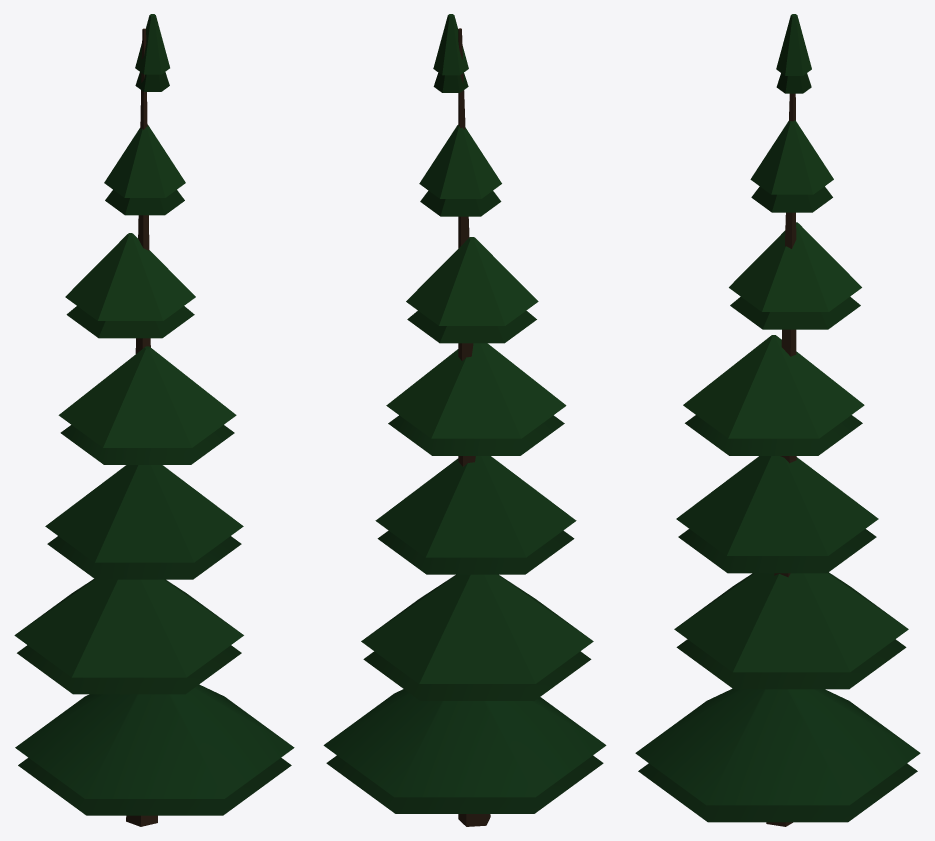
File: tree_spruce_1_far.glb
The picture shows the model from 3 angles, left to right: view 1: azimuth 30°, elevation 25°; view 2: azimuth 150°, elevation 25°; view 3: azimuth 270°, elevation 25°; orthographic projection. The views are drawn at different scales.
Parts seen in each view (by area): view 1: leaf, wood; view 2: leaf, wood; view 3: leaf, wood.
Boxes of the visible parts, x1=… form: leaf: x1=14, y1=14, x2=294, y2=815; wood: x1=126, y1=28, x2=157, y2=826; leaf: x1=323, y1=14, x2=606, y2=813; wood: x1=458, y1=28, x2=490, y2=826; leaf: x1=635, y1=14, x2=920, y2=822; wood: x1=766, y1=93, x2=796, y2=826.
Size of the model in its own units: 3.74 by 13.53 by 4.31.
